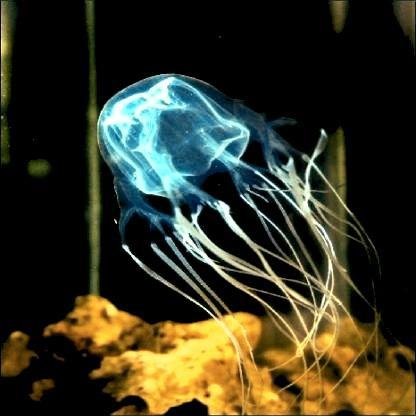FriedEggs: (102, 73, 386, 364)
